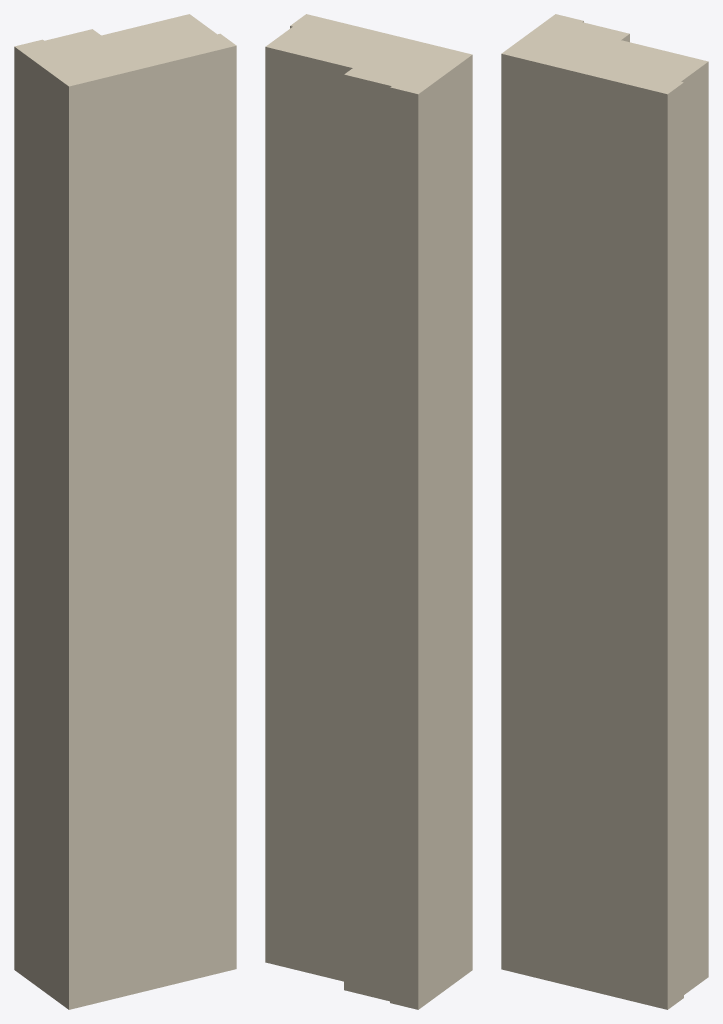
The picture shows the model from 3 angles, left to right: view 1: azimuth 30°, elevation 25°; view 2: azimuth 150°, elevation 25°; view 3: azimuth 330°, elevation 25°; orthographic projection.
Parts seen in each view (by area): view 1: B-FF-WALL-001; view 2: B-FF-WALL-001; view 3: B-FF-WALL-001.
Boxes of the visible parts, bbox=[...] form: B-FF-WALL-001: bbox=[14, 14, 236, 1009]; B-FF-WALL-001: bbox=[265, 14, 472, 1009]; B-FF-WALL-001: bbox=[501, 14, 708, 1009].
Size of the model in its own units: 0.46 by 2.42 by 0.26.
